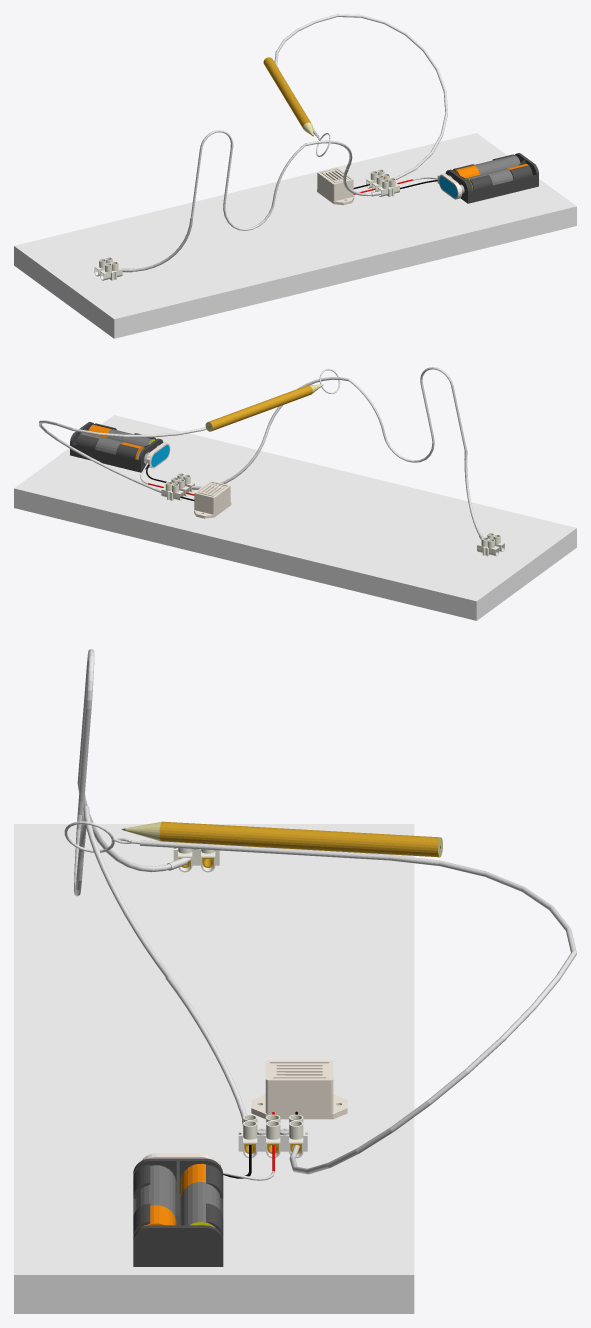
The picture shows the model from 3 angles, top to bottom: view 1: azimuth 30°, elevation 25°; view 2: azimuth 150°, elevation 25°; view 3: azimuth 270°, elevation 25°; orthographic projection. The views are drawn at different scales.
Visible parts, largest first — view 1: Component11_001, Component6_001, Component17_001, Component4_001, Component15_001, Component21_001, Component8_001, Component8_002, Component10_001; view 2: Component11_001, Component6_001, Component21_001, Component4_001, Component17_001, Component15_001, Component8_002, Component8_001, Component10_001; view 3: Component11_001, Component6_001, Component21_001, Component17_001, Component4_001, Component15_001, Component8_001, Component8_002, Component14_003, Component14_001.
Part boxes in pixels (x1,y1,x2,y2): Component11_001: [14, 133, 576, 338]; Component6_001: [445, 153, 538, 203]; Component17_001: [274, 14, 447, 179]; Component4_001: [317, 167, 354, 205]; Component15_001: [191, 130, 306, 230]; Component21_001: [263, 57, 313, 136]; Component8_001: [453, 155, 520, 178]; Component8_002: [464, 163, 528, 190]; Component10_001: [437, 174, 461, 199]; Component11_001: [14, 415, 576, 620]; Component6_001: [70, 422, 163, 472]; Component21_001: [205, 384, 323, 431]; Component4_001: [194, 481, 231, 518]; Component17_001: [39, 420, 206, 492]; Component15_001: [348, 367, 466, 462]; Component8_002: [88, 424, 154, 446]; Component8_001: [80, 432, 144, 459]; Component10_001: [144, 442, 170, 468]; Component11_001: [14, 824, 414, 1313]; Component6_001: [133, 1158, 223, 1266]; Component21_001: [121, 821, 442, 857]; Component17_001: [140, 840, 576, 1174]; Component4_001: [251, 1060, 347, 1119]; Component15_001: [74, 649, 94, 896]; Component8_001: [180, 1163, 220, 1227]; Component8_002: [136, 1165, 176, 1228]; Component14_003: [83, 806, 170, 977]; Component14_001: [165, 975, 251, 1146].
Size of the model in its own units: 371 by 126 by 196.
